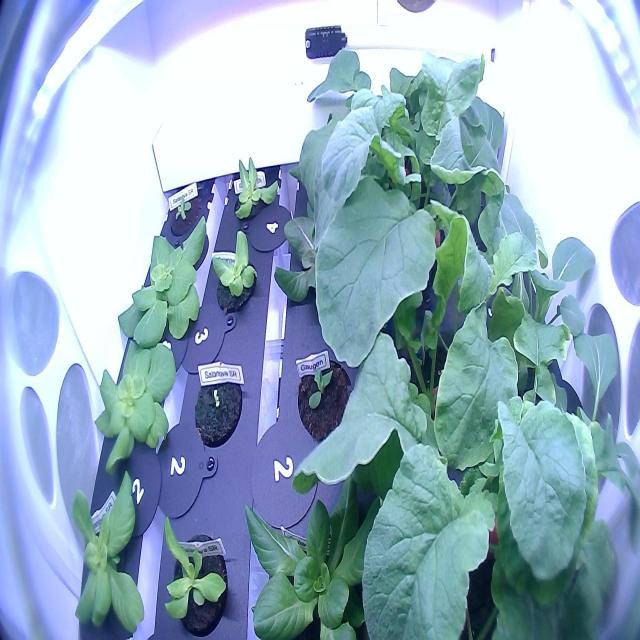germination: (292, 338, 364, 454), (190, 360, 248, 450)
young: (232, 457, 402, 640), (64, 463, 156, 639), (112, 209, 213, 352), (90, 324, 179, 481), (156, 491, 236, 638), (206, 222, 266, 320), (229, 152, 281, 235), (164, 184, 208, 242)
